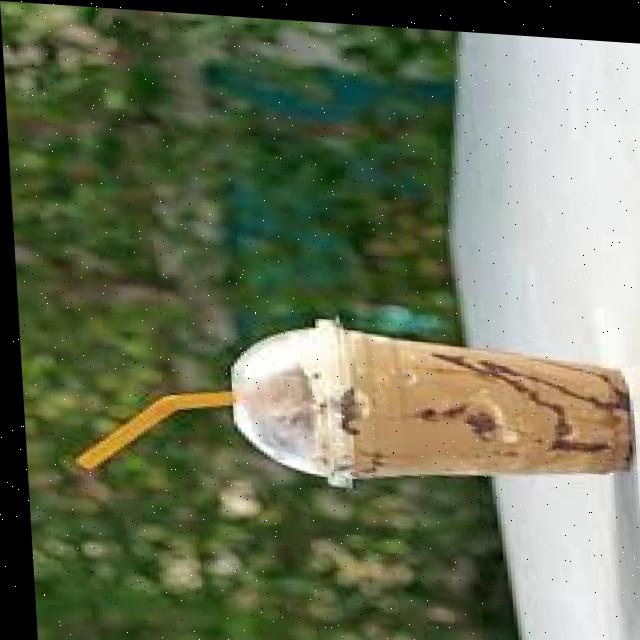cup: (344, 326, 626, 472)
